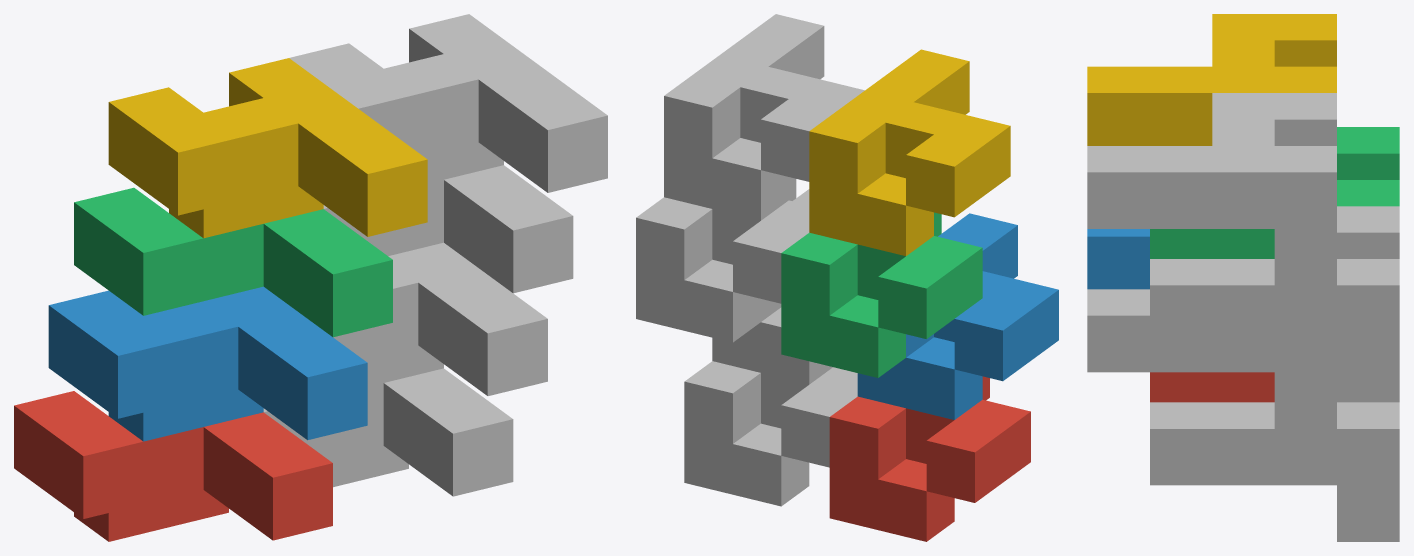
Rendered from tiling.obj.
The picture shows the model from 3 angles, left to right: view 1: azimuth 30°, elevation 25°; view 2: azimuth 150°, elevation 25°; view 3: azimuth 270°, elevation 25°; orthographic projection. The views are drawn at different scales.
Visible parts, largest first — view 1: copy_1_domain_4, copy_1_domain_2, copy_1_domain_1, copy_1_domain_8, copy_1_domain_3, copy_1_domain_6, copy_1_domain_5, copy_1_domain_7; view 2: copy_1_domain_4, copy_1_domain_8, copy_1_domain_1, copy_1_domain_3, copy_1_domain_7, copy_1_domain_5, copy_1_domain_2, copy_1_domain_6; view 3: copy_1_domain_8, copy_1_domain_7, copy_1_domain_5, copy_1_domain_4, copy_1_domain_6, copy_1_domain_3, copy_1_domain_1, copy_1_domain_2.
Boxes of the visible parts, left/top/right/bottom form: copy_1_domain_4: left=108, top=58, right=427, bottom=238; copy_1_domain_2: left=48, top=286, right=367, bottom=441; copy_1_domain_1: left=14, top=391, right=332, bottom=541; copy_1_domain_8: left=289, top=14, right=607, bottom=192; copy_1_domain_3: left=74, top=187, right=392, bottom=337; copy_1_domain_6: left=333, top=242, right=547, bottom=395; copy_1_domain_5: left=263, top=368, right=513, bottom=496; copy_1_domain_7: left=323, top=165, right=573, bottom=293; copy_1_domain_4: left=809, top=49, right=1010, bottom=255; copy_1_domain_8: left=664, top=14, right=864, bottom=220; copy_1_domain_1: left=829, top=376, right=1030, bottom=541; copy_1_domain_3: left=781, top=212, right=982, bottom=377; copy_1_domain_7: left=636, top=177, right=809, bottom=342; copy_1_domain_5: left=684, top=361, right=857, bottom=506; copy_1_domain_2: left=857, top=213, right=1058, bottom=419; copy_1_domain_6: left=712, top=189, right=832, bottom=384; copy_1_domain_8: left=1087, top=93, right=1336, bottom=285; copy_1_domain_7: left=1150, top=206, right=1399, bottom=398; copy_1_domain_5: left=1150, top=398, right=1399, bottom=541; copy_1_domain_4: left=1087, top=14, right=1336, bottom=145; copy_1_domain_6: left=1087, top=289, right=1336, bottom=428; copy_1_domain_3: left=1150, top=127, right=1399, bottom=258; copy_1_domain_1: left=1150, top=372, right=1274, bottom=402; copy_1_domain_2: left=1087, top=229, right=1149, bottom=289.
Bounding box in the file's own units: 7 × 7 × 5.
